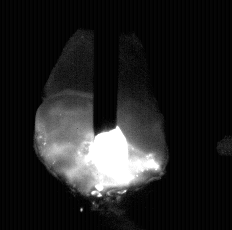arame: (94, 0, 118, 136)
poca: (33, 0, 166, 230)
